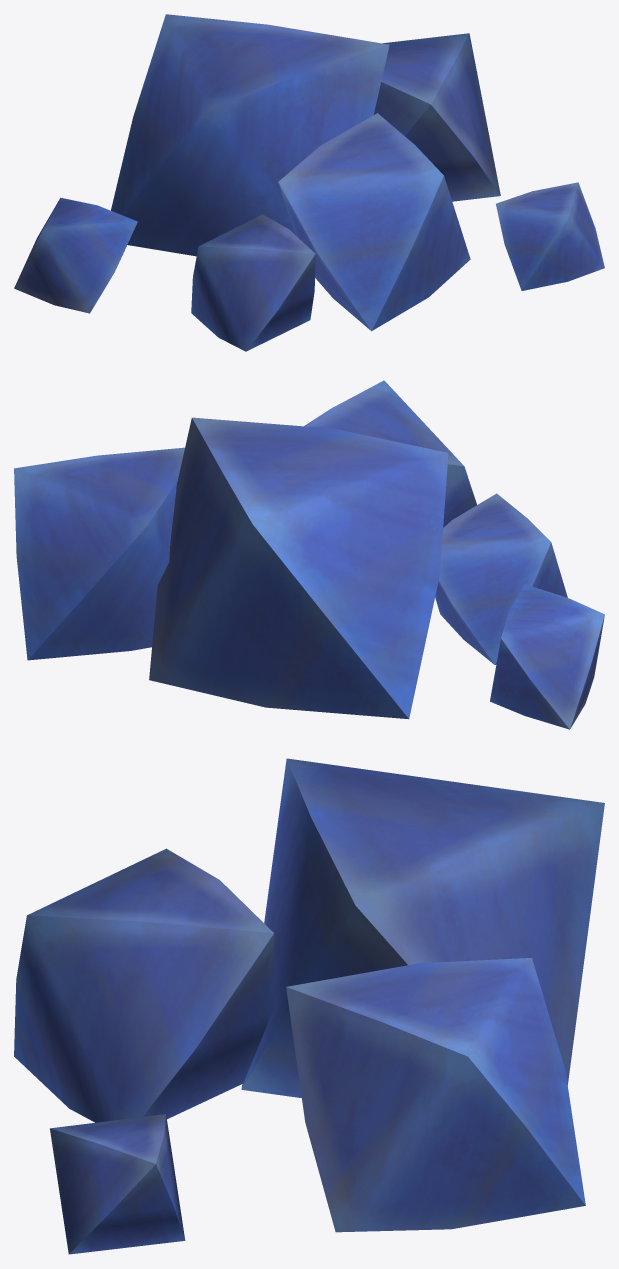
Rendered from SM_Potion_Props_Loot_Gem_03_B.fbx.
3 views of the same model, one above another, from view 1: azimuth 30°, elevation 25°; view 2: azimuth 150°, elevation 25°; view 3: azimuth 270°, elevation 25° (orthographic). The views are drawn at different scales.
Parts seen in each view (by area): view 1: SM_Potion_Props_Loot_Gem_03_B_LOD0; view 2: SM_Potion_Props_Loot_Gem_03_B_LOD0; view 3: SM_Potion_Props_Loot_Gem_03_B_LOD0.
Boxes of the visible parts, x1,y1,x2,y2 form: SM_Potion_Props_Loot_Gem_03_B_LOD0: (14, 14, 604, 351); SM_Potion_Props_Loot_Gem_03_B_LOD0: (14, 380, 604, 729); SM_Potion_Props_Loot_Gem_03_B_LOD0: (14, 758, 604, 1254).
Size of what is drawn, in the model's own units: 15.71 by 6.14 by 11.47.
